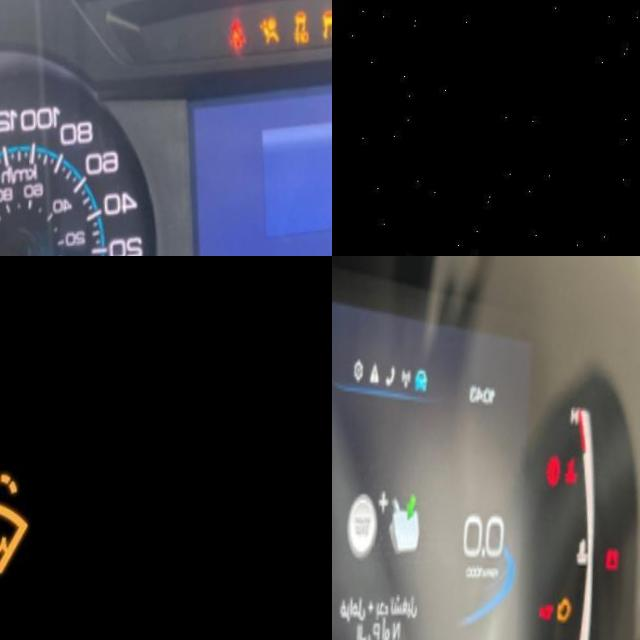Engine cooling system: (566, 446, 588, 481)
Washer Fluid: (0, 461, 50, 578)
